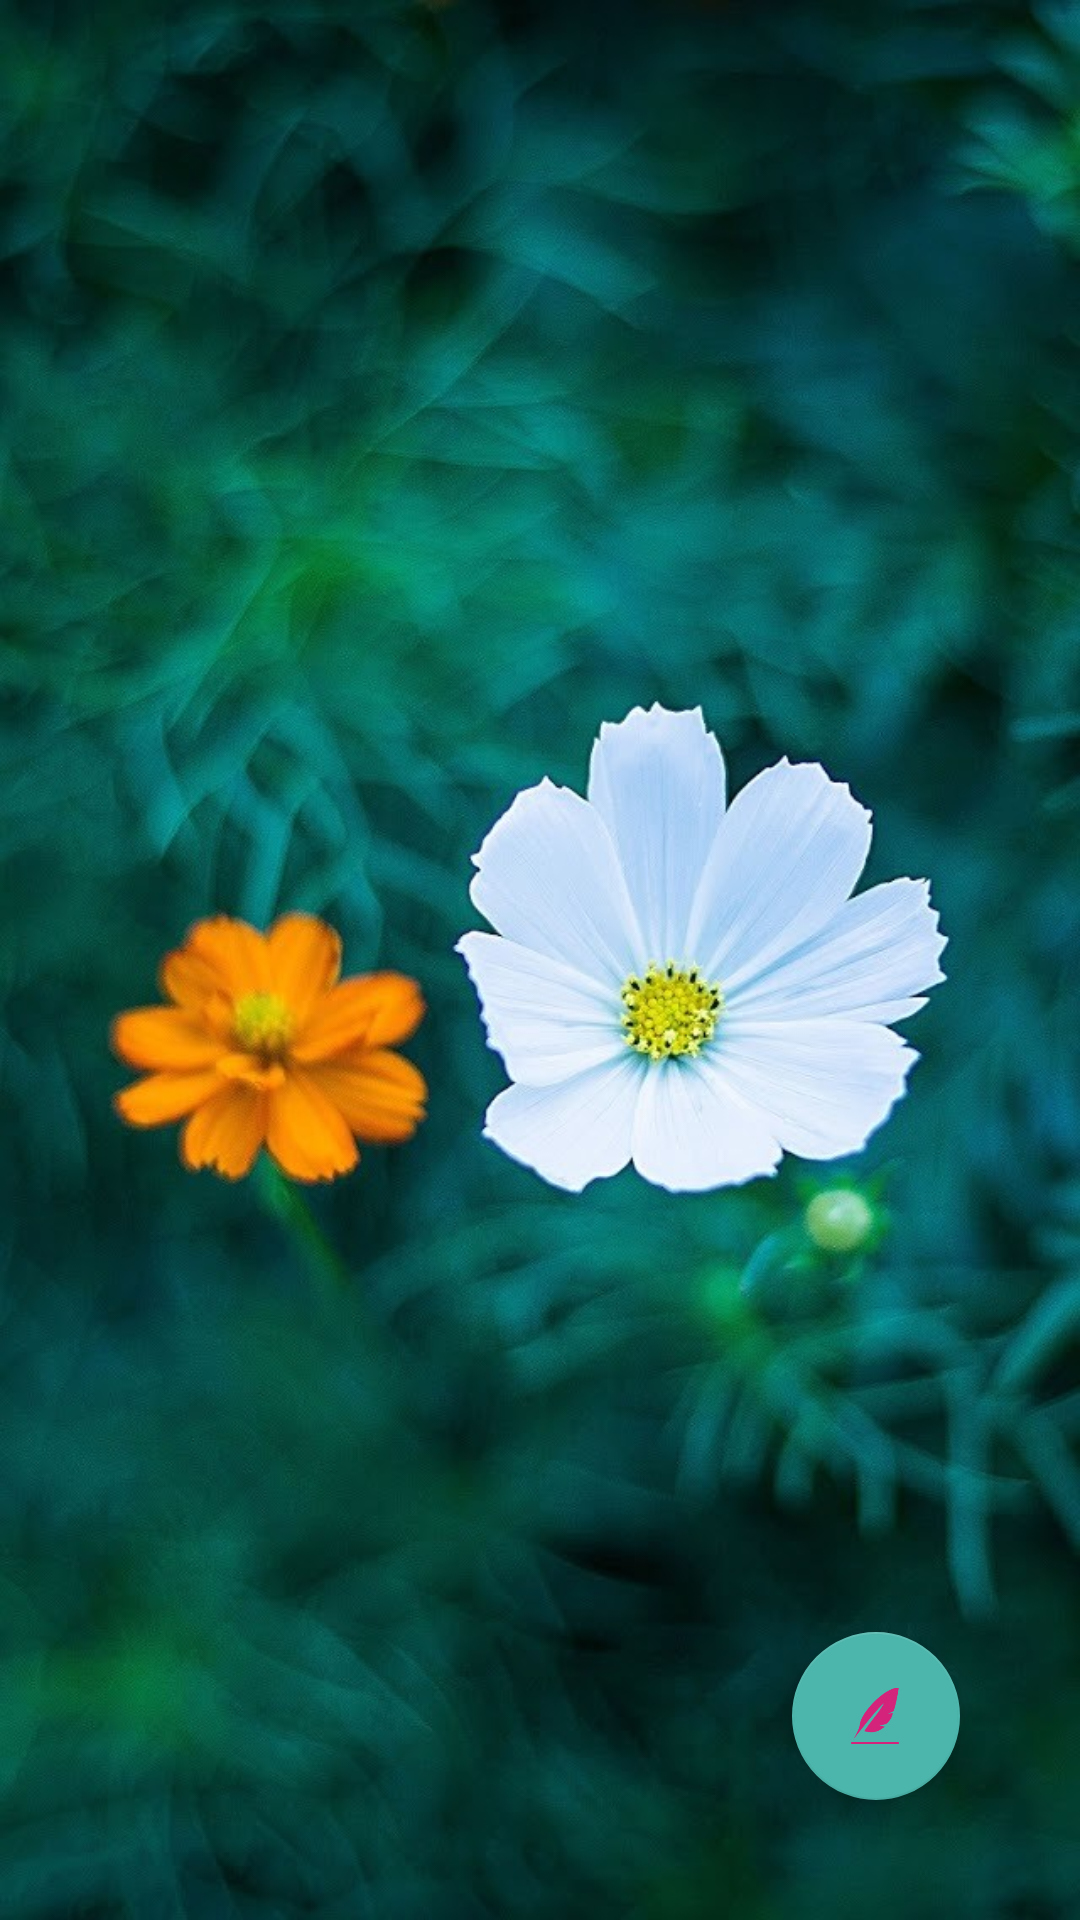

Named icons in this screenshot (1080 x 1920) and their bounding boxes, [x1, y1, x2, y2]:
pen: [792, 1632, 960, 1800]
